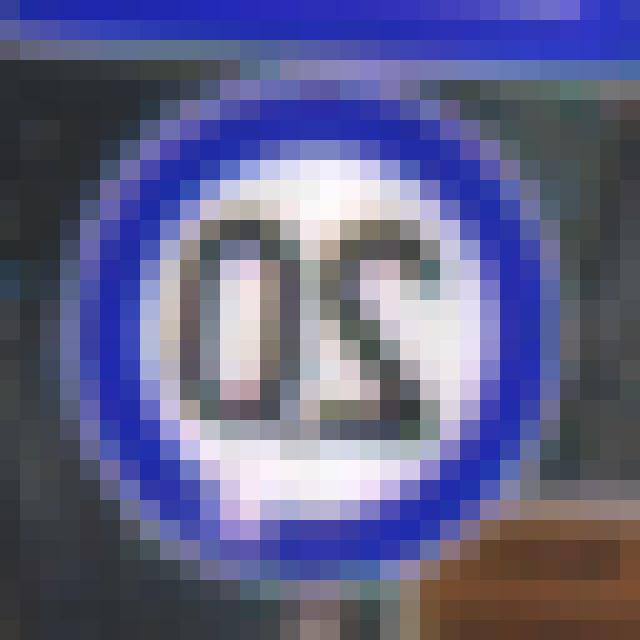SPEED LIMIT 20: (41, 72, 546, 594)
